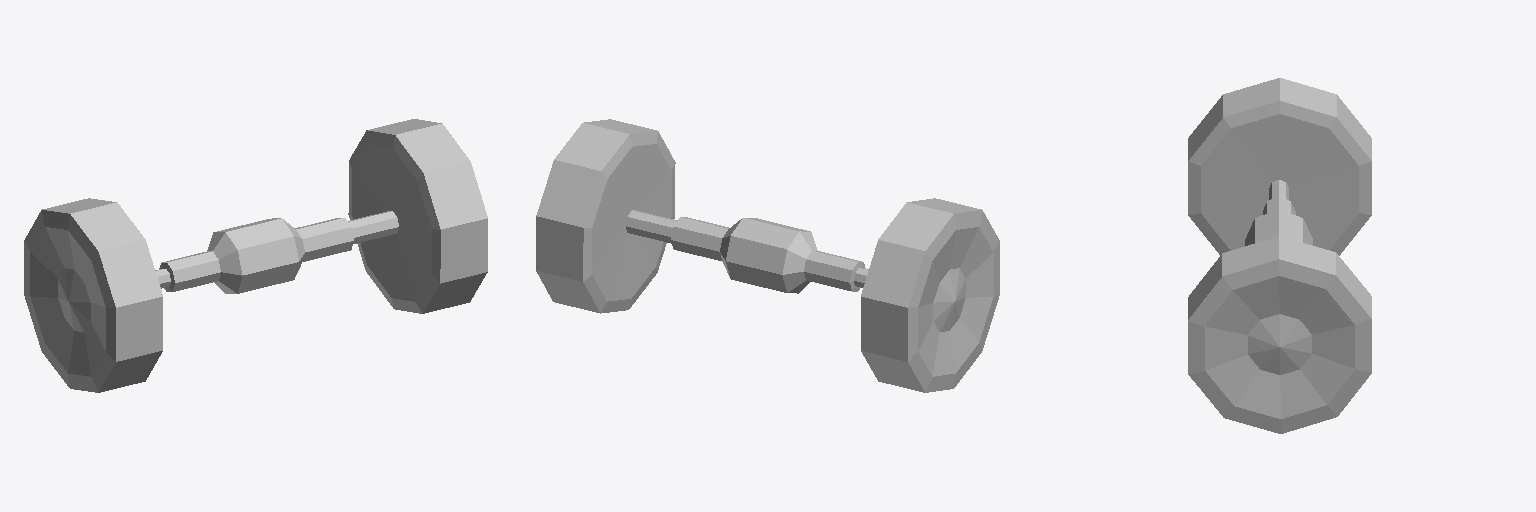
Rendered from front_wheel.obj.
3 renders of one model, left to right at view 1: azimuth 30°, elevation 25°; view 2: azimuth 150°, elevation 25°; view 3: azimuth 270°, elevation 25°, orthographic.
Size of the model in its own units: 2.33 by 1.04 by 0.9918.